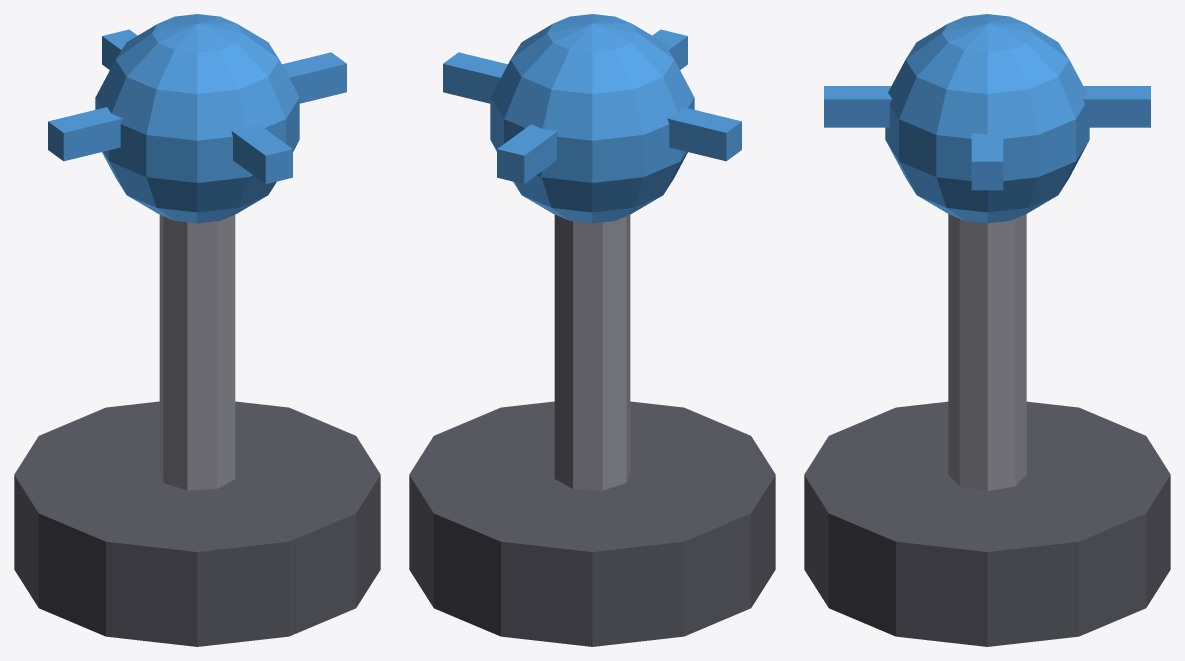
Rendered from Sprinkler_AdvancedSprinkler.fbx.
3 renders of one model, left to right at view 1: azimuth 30°, elevation 25°; view 2: azimuth 150°, elevation 25°; view 3: azimuth 270°, elevation 25°, orthographic.
Visible parts, largest first — view 1: Base_AdvancedSprinkler, Cabeca_AdvancedSprinkler, Cano_AdvancedSprinkler; view 2: Base_AdvancedSprinkler, Cabeca_AdvancedSprinkler, Cano_AdvancedSprinkler; view 3: Base_AdvancedSprinkler, Cabeca_AdvancedSprinkler, Cano_AdvancedSprinkler.
Part boxes in pixels (left/top/right/bottom): Base_AdvancedSprinkler: left=14, top=401, right=380, bottom=646; Cabeca_AdvancedSprinkler: left=48, top=14, right=346, bottom=223; Cano_AdvancedSprinkler: left=159, top=214, right=235, bottom=490; Base_AdvancedSprinkler: left=409, top=401, right=775, bottom=646; Cabeca_AdvancedSprinkler: left=443, top=14, right=741, bottom=223; Cano_AdvancedSprinkler: left=554, top=214, right=630, bottom=490; Base_AdvancedSprinkler: left=804, top=401, right=1170, bottom=646; Cabeca_AdvancedSprinkler: left=824, top=14, right=1150, bottom=223; Cano_AdvancedSprinkler: left=948, top=214, right=1026, bottom=491.
Size of the model in its own units: 1.4 by 2.3 by 1.4.
Materials: 1 (1 with a texture image).
